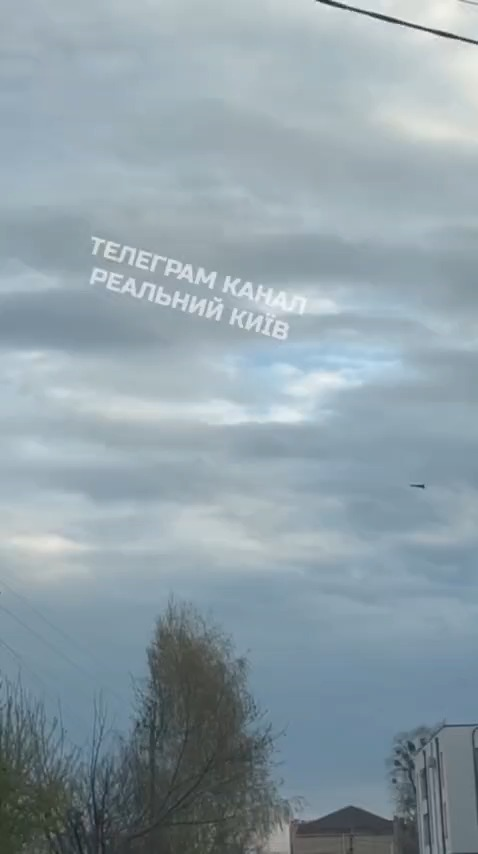shahed: (409, 478, 428, 492)
